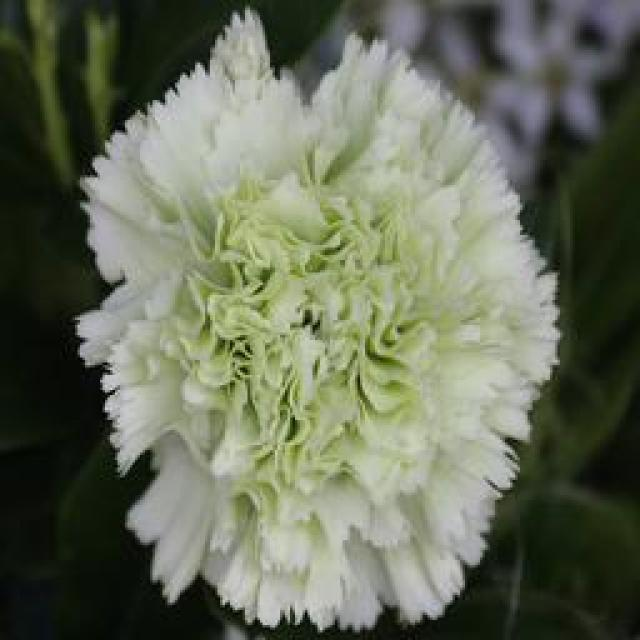carnation: (48, 19, 573, 636)
